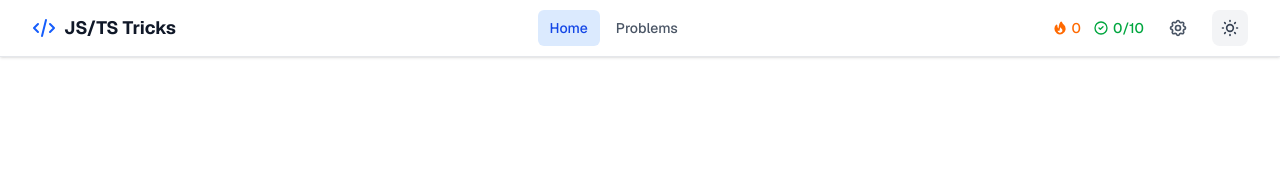
Test: Navbar › Settings Menu Toggle › should hide settings dropdown when settings button is clicked again
The width and height of the screenshot is (1280, 171).
Click the button named "settings". click: (1178, 28)
box: [1160,10,1196,46]
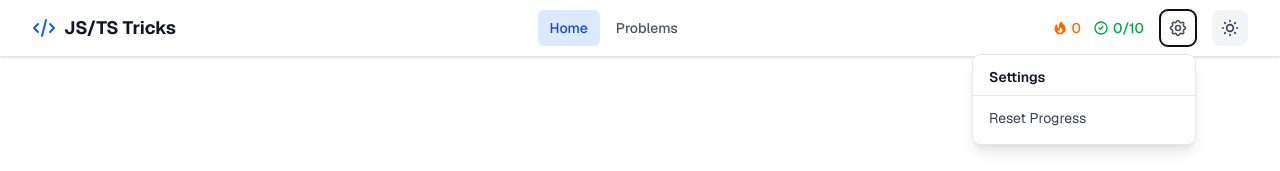
Result: the text "Settings" is shown at [989,68,1045,86]
Click the button named "settings". click: (1178, 28)
box: [1160,10,1196,46]
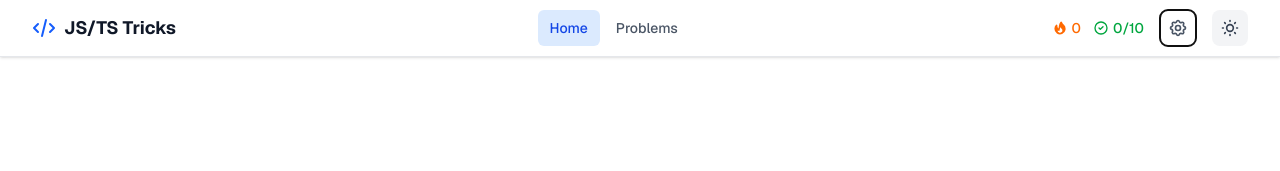
Result: the text "Settings" is gone
